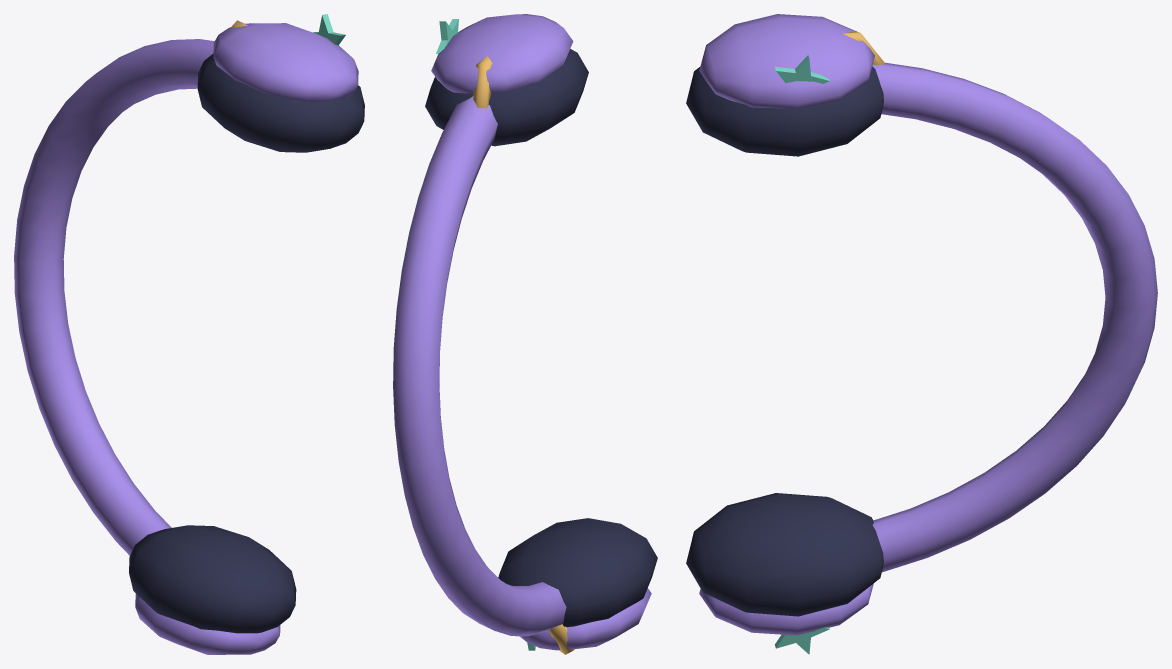
Rendered from cloud-beat.glb.
3 renders of one model, left to right at view 1: azimuth 30°, elevation 25°; view 2: azimuth 150°, elevation 25°; view 3: azimuth 270°, elevation 25°, orthographic. The views are drawn at different scales.
Parts seen in each view (by area): view 1: SHOP_cloud-beat_optimized; view 2: SHOP_cloud-beat_optimized; view 3: SHOP_cloud-beat_optimized.
Part boxes in pixels (x1,y1,x2,y2): SHOP_cloud-beat_optimized: [14, 14, 364, 654]; SHOP_cloud-beat_optimized: [393, 14, 657, 654]; SHOP_cloud-beat_optimized: [686, 14, 1157, 654].
Size of the model in its own units: 0.1323 by 0.3746 by 0.2491.
